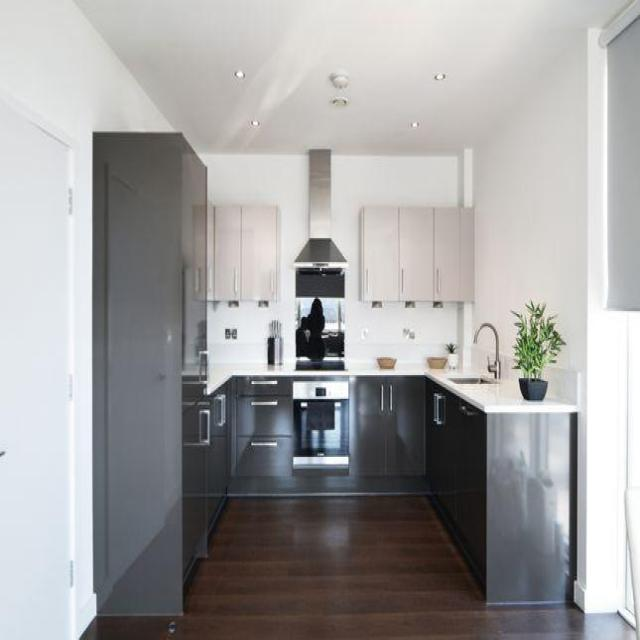Wall: (0, 0, 173, 635), (474, 28, 640, 613), (85, 497, 635, 639), (316, 0, 627, 153), (77, 0, 361, 153), (331, 148, 474, 362), (203, 156, 309, 365), (625, 315, 640, 638), (414, 0, 519, 46)
